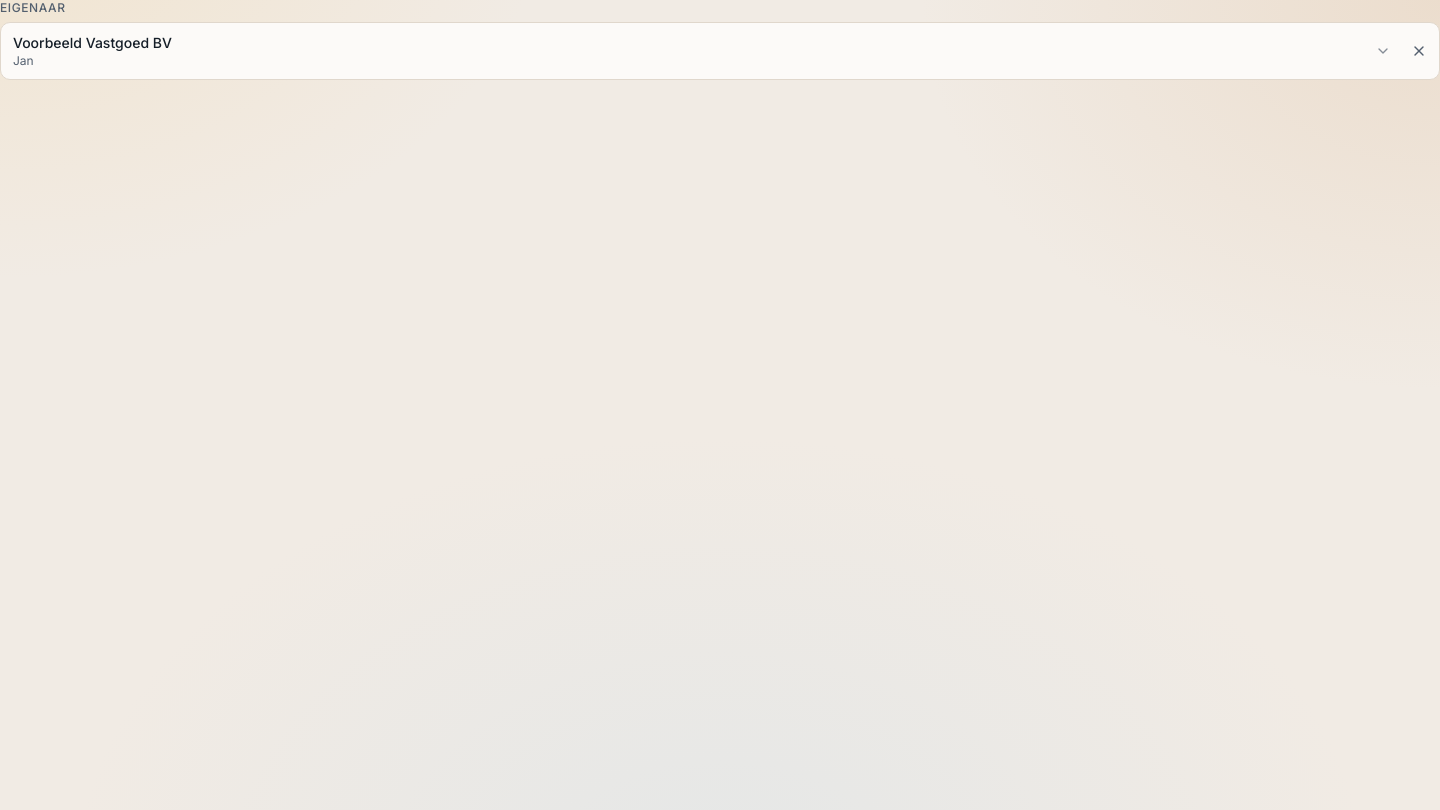
Test case: Entiteitskoppelingen zonder zijknop › opent de zoekdialoog door op de geselecteerde naam te klikken
Expected: the button named "Ontkoppel Eigenaar" is shown, [1403,35,1435,67]
Click the button with aria-label "Wijzig Eigenaar" at (92,42), box [5,27,1399,75]
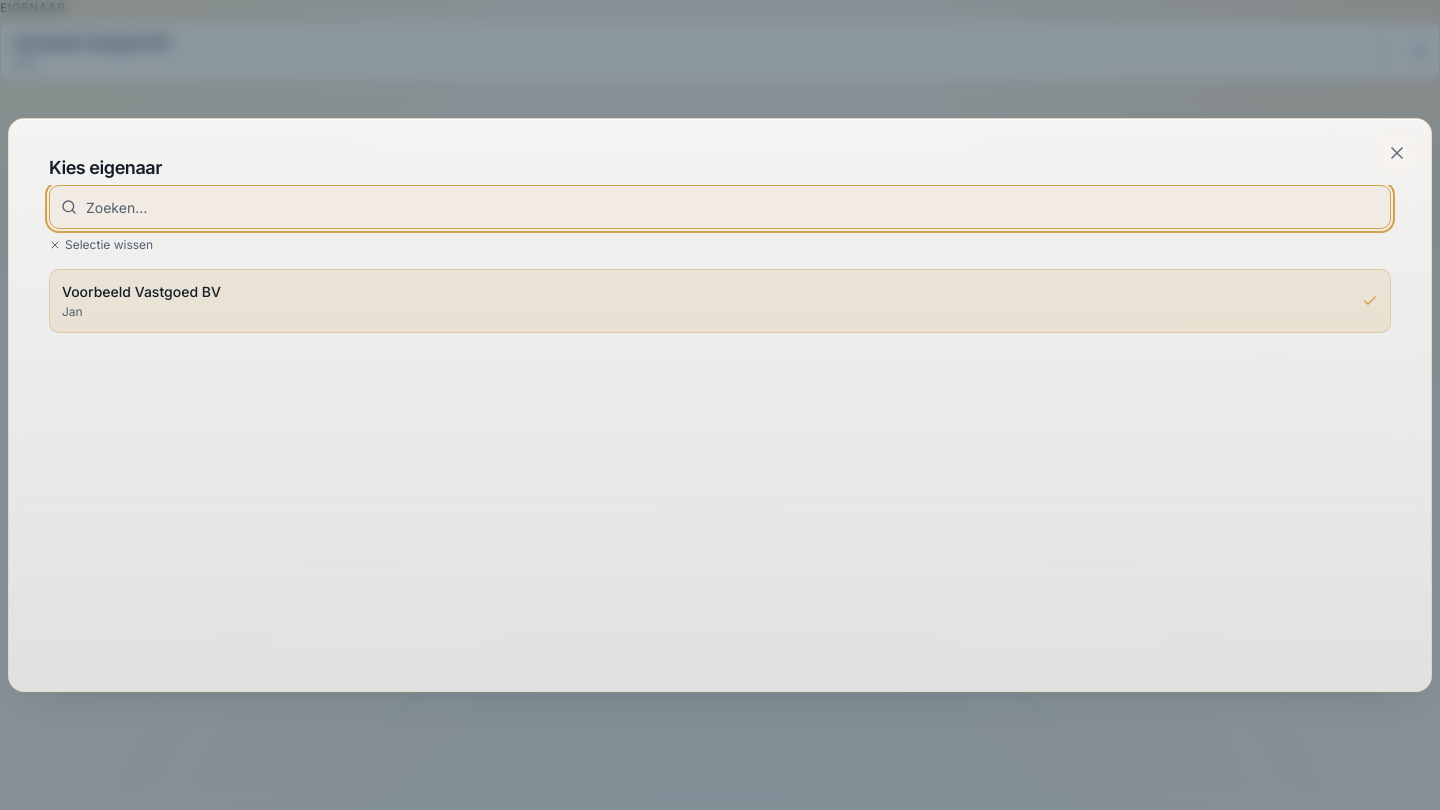
Now the dialog "Kies eigenaar" is shown
